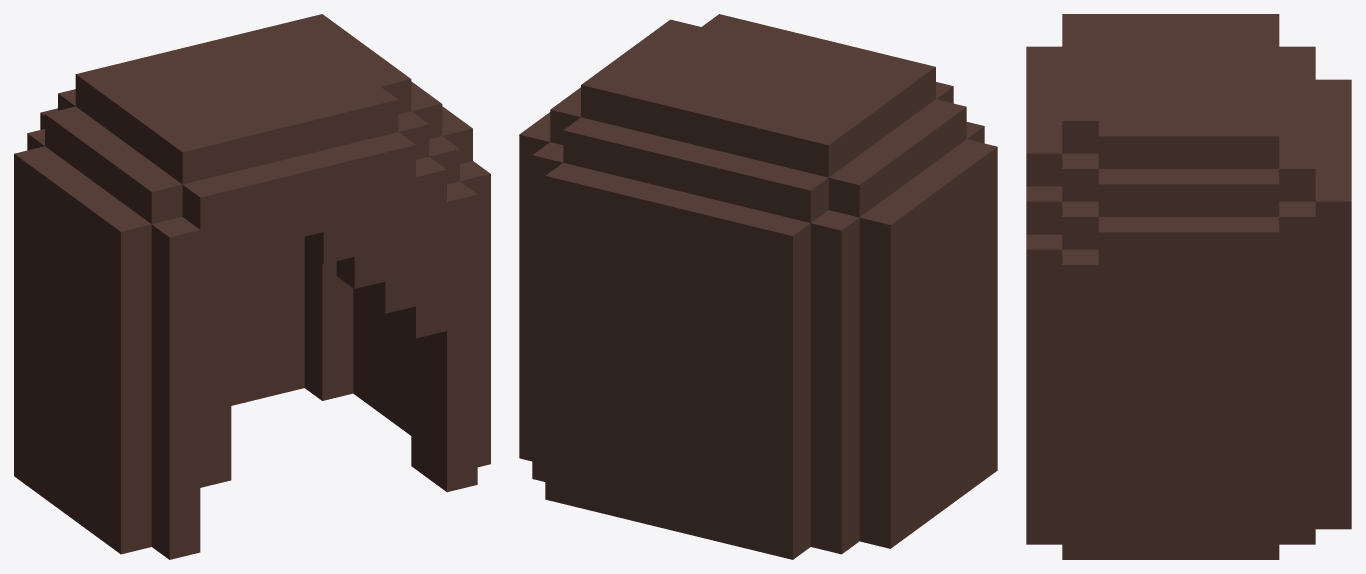
File: hair_01.gltf
The picture shows the model from 3 angles, left to right: view 1: azimuth 30°, elevation 25°; view 2: azimuth 150°, elevation 25°; view 3: azimuth 270°, elevation 25°; orthographic projection.
Visible parts, largest first — view 1: Untitled-Mesh; view 2: Untitled-Mesh; view 3: Untitled-Mesh.
Boxes of the visible parts, x1=… form: Untitled-Mesh: x1=14, y1=14, x2=490, y2=559; Untitled-Mesh: x1=519, y1=14, x2=997, y2=559; Untitled-Mesh: x1=1026, y1=14, x2=1351, y2=559.
Bounding box in the file's own units: 12 × 12 × 9.
1 material, 1 textured.
